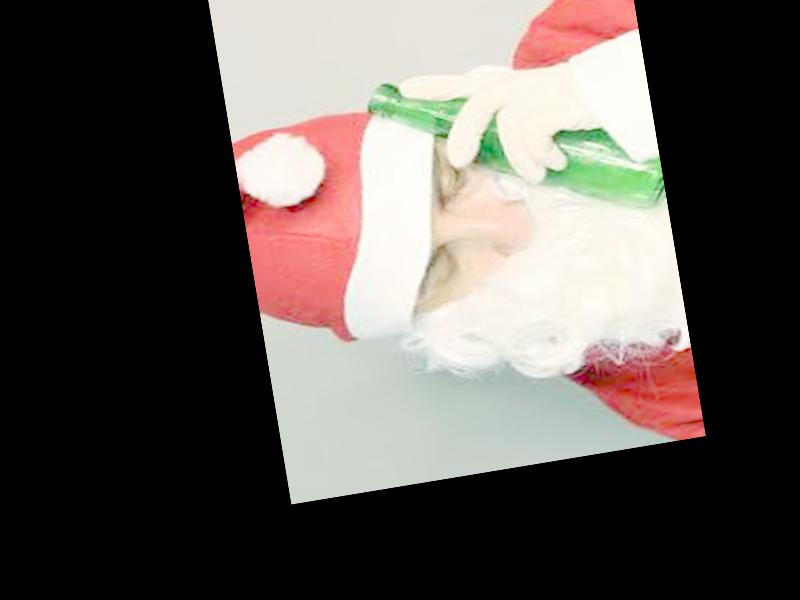Beer: (366, 39, 667, 246)
